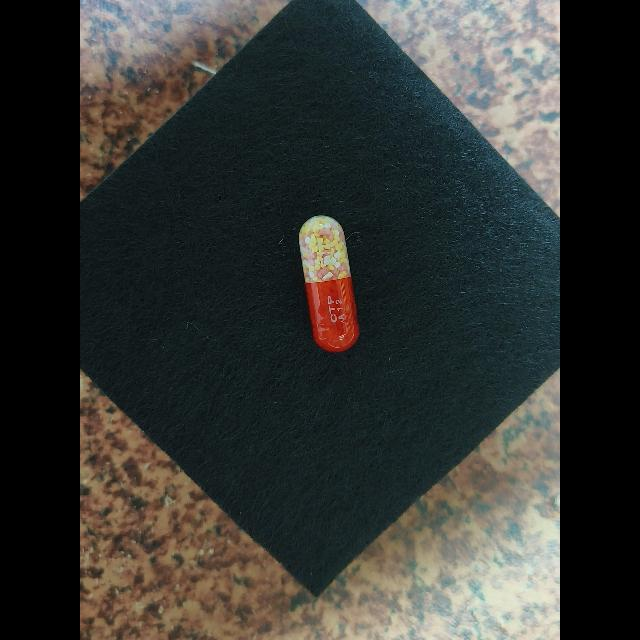Intact Capsule: (299, 215, 360, 352)
